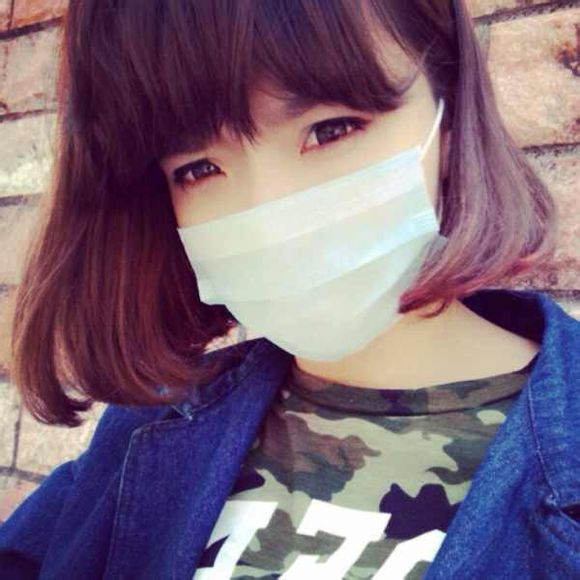face_mask: (147, 0, 443, 357)
